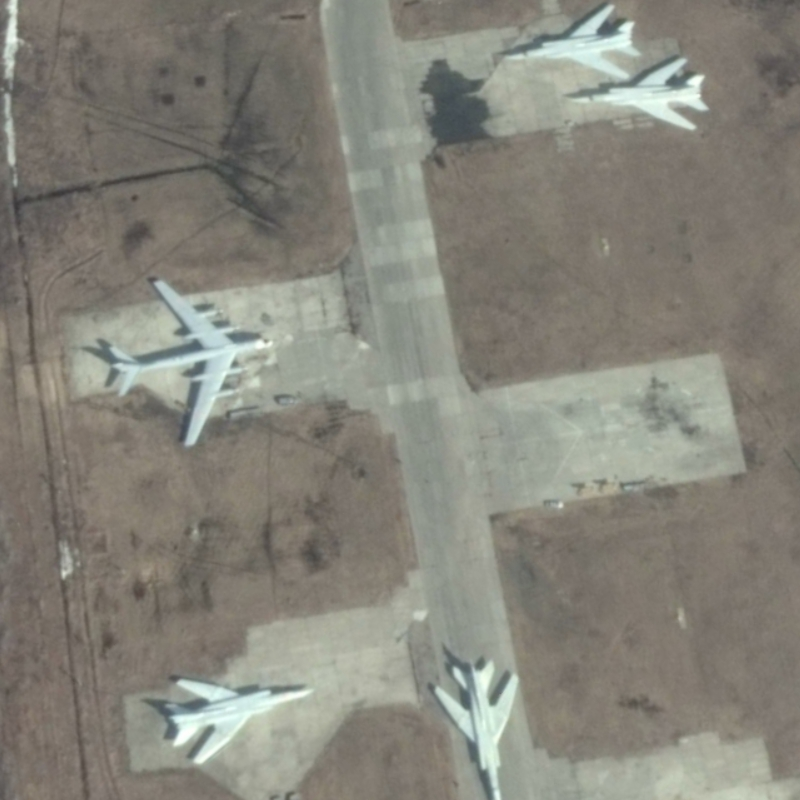A12: (163, 677, 317, 767), (431, 657, 522, 800), (502, 2, 645, 81), (568, 56, 711, 132)
A17: (106, 277, 276, 449)
